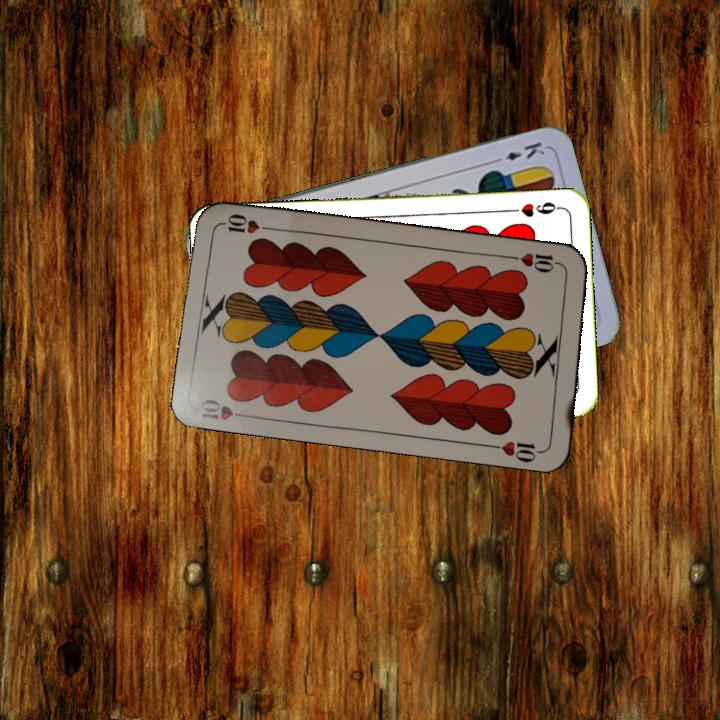EK: (488, 137, 548, 166)
H10: (507, 248, 566, 276), (195, 395, 254, 423)
H9: (504, 197, 563, 220)
